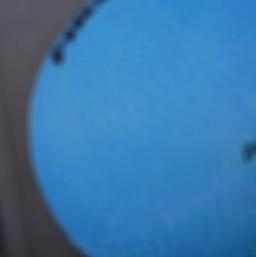algae: (27, 0, 256, 257)
